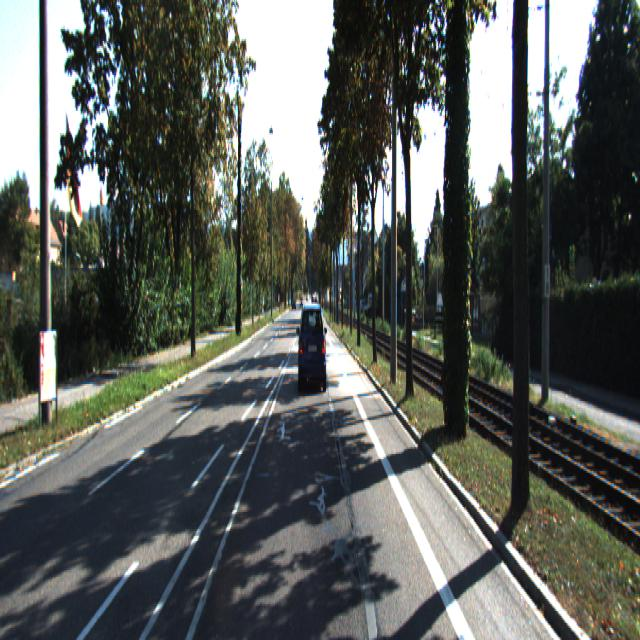Car: (298, 300, 327, 394)
